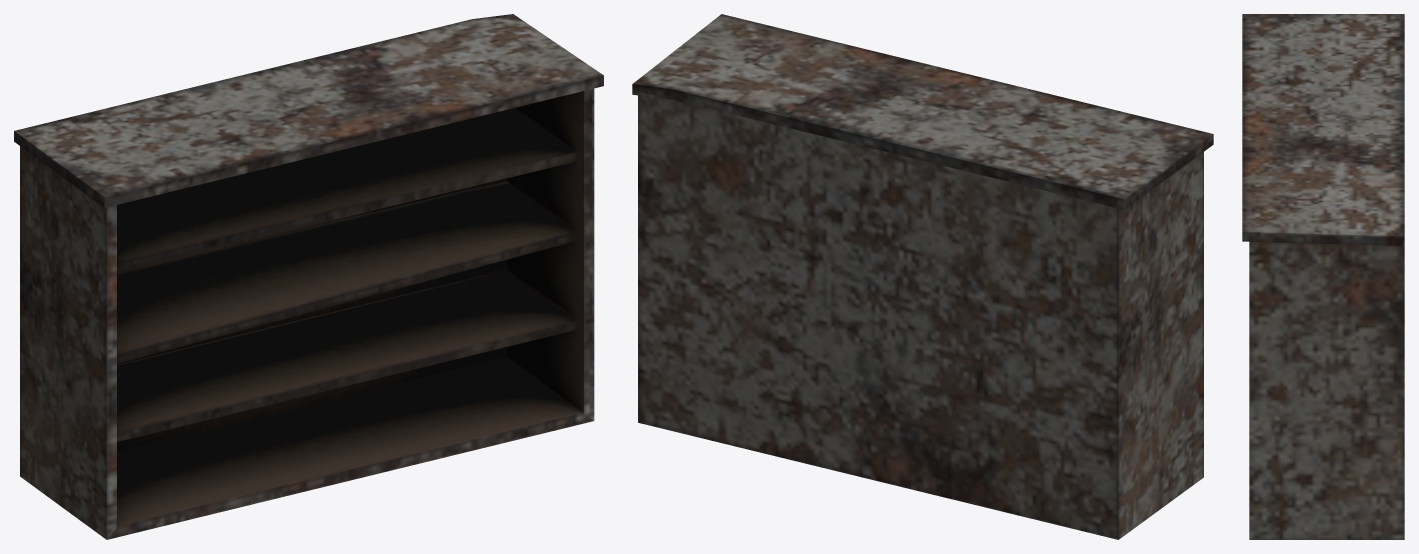
Rendered from OpenStorage_01.FBX.
The picture shows the model from 3 angles, left to right: view 1: azimuth 30°, elevation 25°; view 2: azimuth 150°, elevation 25°; view 3: azimuth 270°, elevation 25°; orthographic projection. The views are drawn at different scales.
Visible parts, largest first — view 1: OpenStorage_01; view 2: OpenStorage_01; view 3: OpenStorage_01.
Part boxes in pixels (<box>): OpenStorage_01: <box>14,14,603,539</box>; OpenStorage_01: <box>632,14,1213,539</box>; OpenStorage_01: <box>1242,14,1404,539</box>.
Size of the model in its own units: 145 by 96.6 by 45.7.
